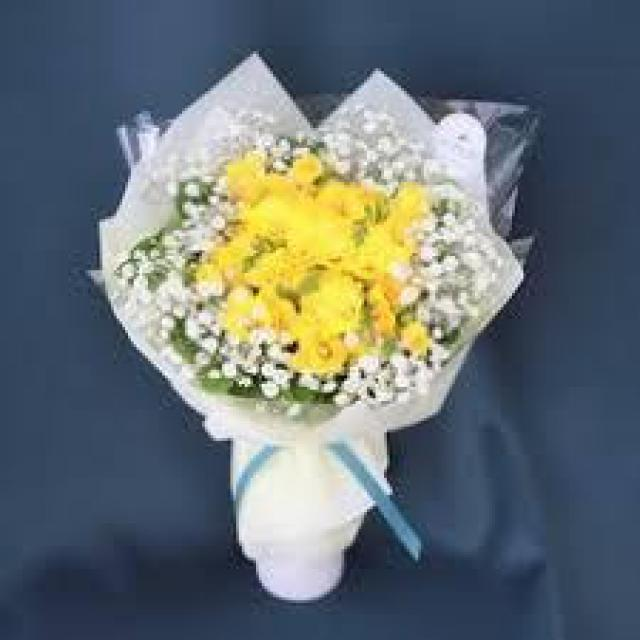freesia: (232, 163, 416, 280), (208, 232, 352, 357)
gypsophila: (101, 196, 232, 361), (397, 190, 495, 355), (324, 320, 452, 410)
